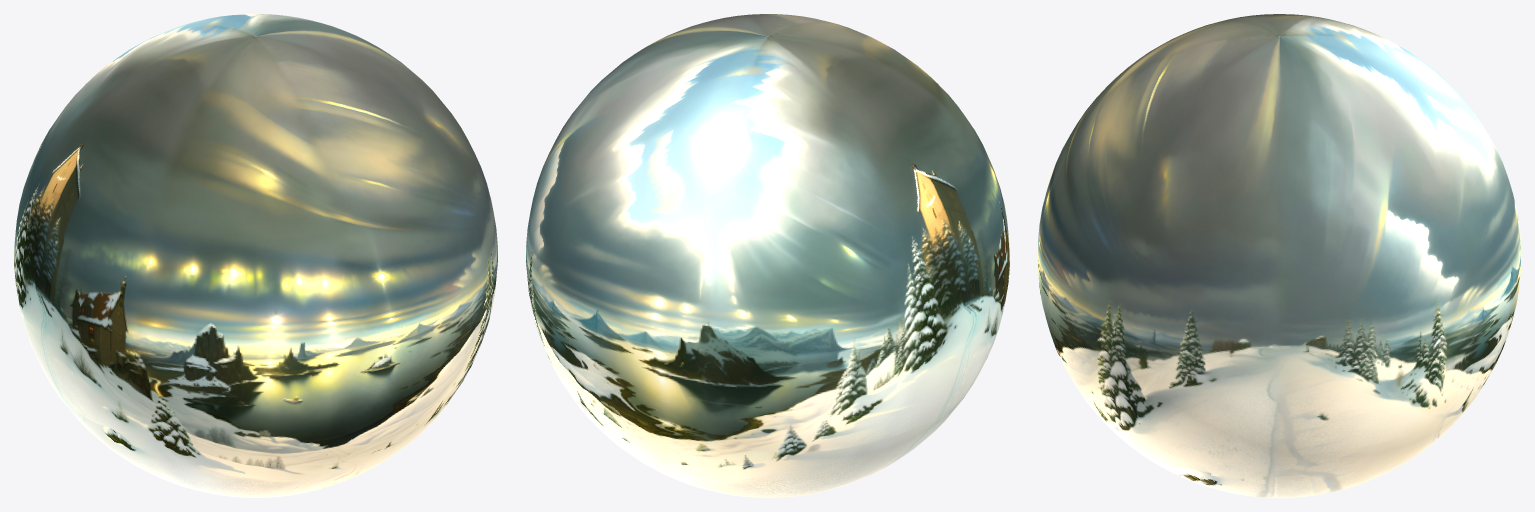
File: winter_terrain.glb
3 renders of one model, left to right at view 1: azimuth 30°, elevation 25°; view 2: azimuth 150°, elevation 25°; view 3: azimuth 270°, elevation 25°, orthographic.
Visible parts, largest first — view 1: Fairytale_Garden; view 2: Fairytale_Garden; view 3: Fairytale_Garden.
Part boxes in pixels (bbox=[...]): Fairytale_Garden: bbox=[14, 14, 497, 497]; Fairytale_Garden: bbox=[526, 14, 1009, 497]; Fairytale_Garden: bbox=[1038, 14, 1520, 497].
Bounding box in the file's own units: 0.2478 × 0.248 × 0.2473.
1 material, 1 textured.
